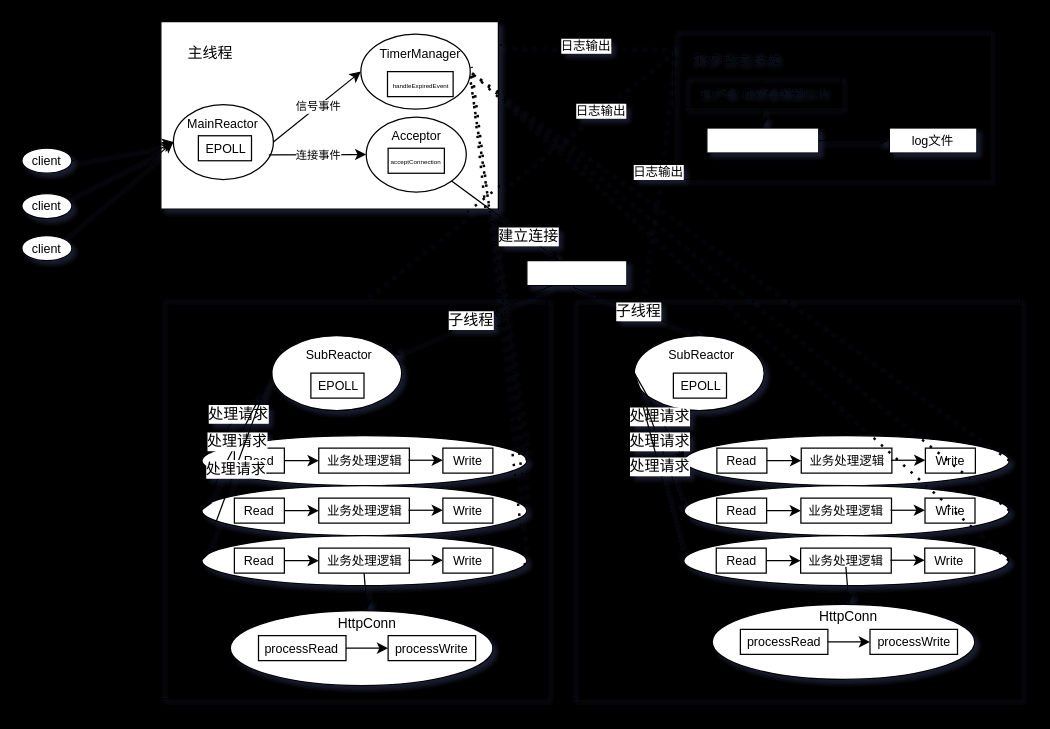
Image size: 1050x729. Some labels were removed from this diagram. Each missing label, with the box of its shape:
单独的线程写日志: (706, 127, 819, 153)
线程池: (526, 259, 627, 286)
